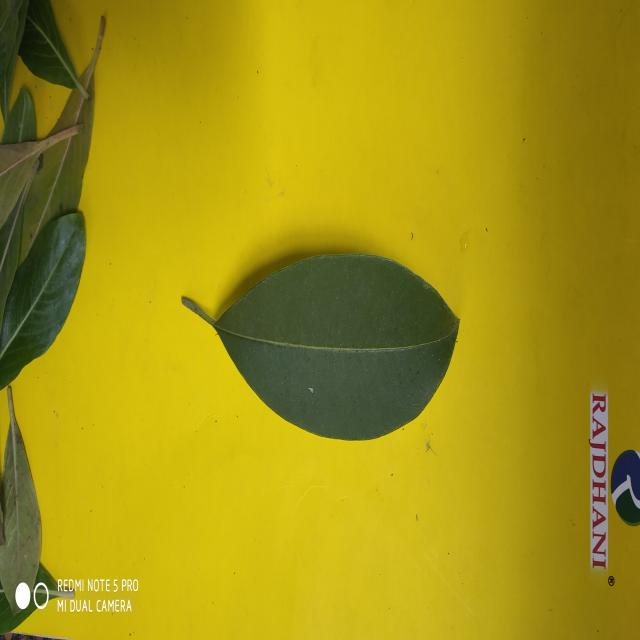sapota: (210, 253, 459, 440)
